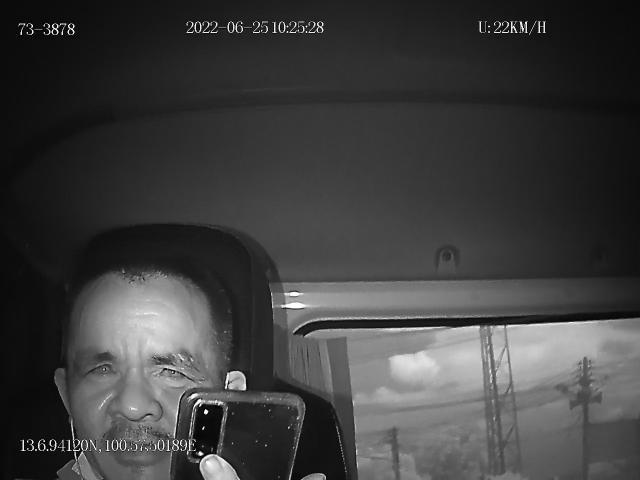PhoneUse: (172, 384, 308, 480)
SafeDriving: (146, 351, 198, 388), (76, 350, 125, 388)
